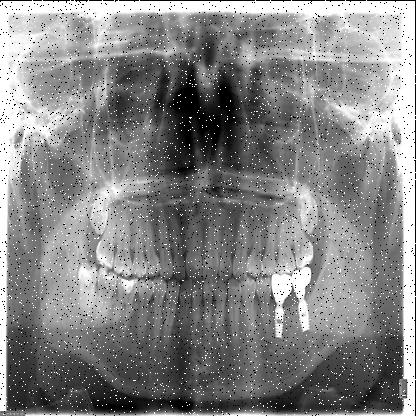Bicon: (274, 303, 288, 342), (298, 298, 312, 334)
